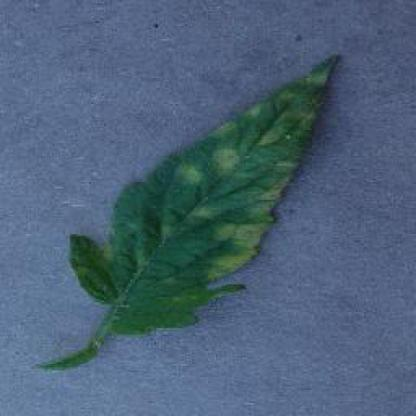Tomato_Leaf_Mold: (64, 53, 340, 333)
